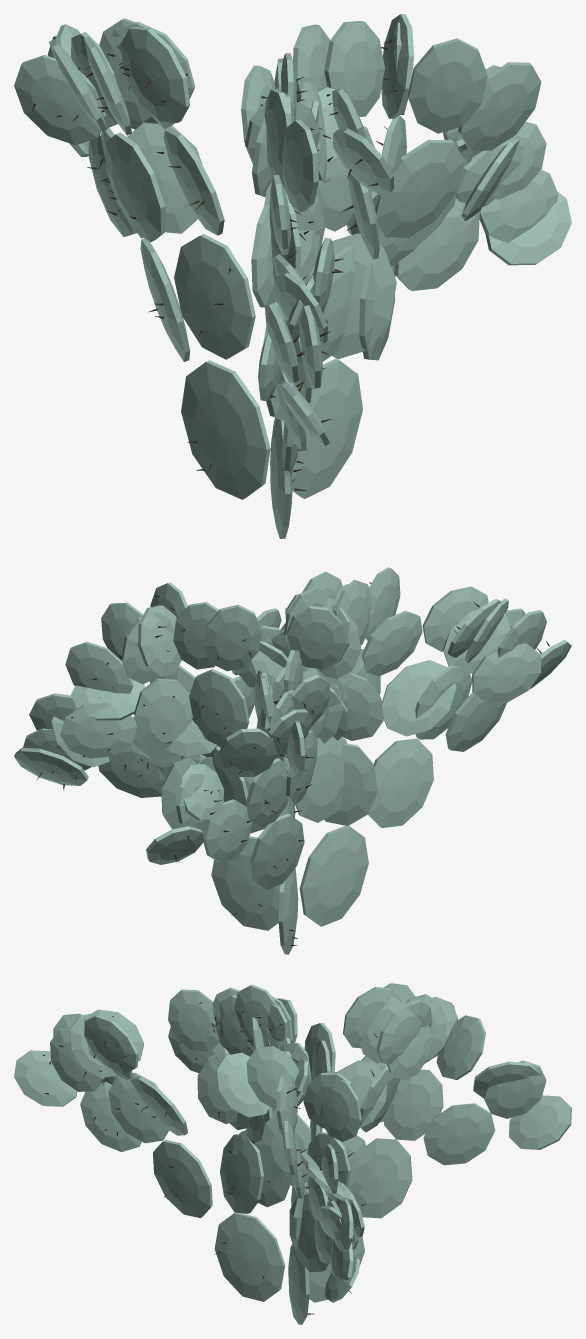
The model's file is prickly_pear_v01.glb.
3 renders of one model, top to bottom at view 1: azimuth 30°, elevation 25°; view 2: azimuth 150°, elevation 25°; view 3: azimuth 270°, elevation 25°, orthographic. The views are drawn at different scales.
Parts seen in each view (by area): view 1: prickly_pear_v01; view 2: prickly_pear_v01; view 3: prickly_pear_v01.
Part boxes in pixels (x1=…): prickly_pear_v01: x1=14, y1=14, x2=571, y2=538; prickly_pear_v01: x1=14, y1=567, x2=571, y2=954; prickly_pear_v01: x1=14, y1=983, x2=571, y2=1324.
Size of the model in its own units: 0.7721 by 0.6824 by 1.09.
Materials: 2 (1 with a texture image).
